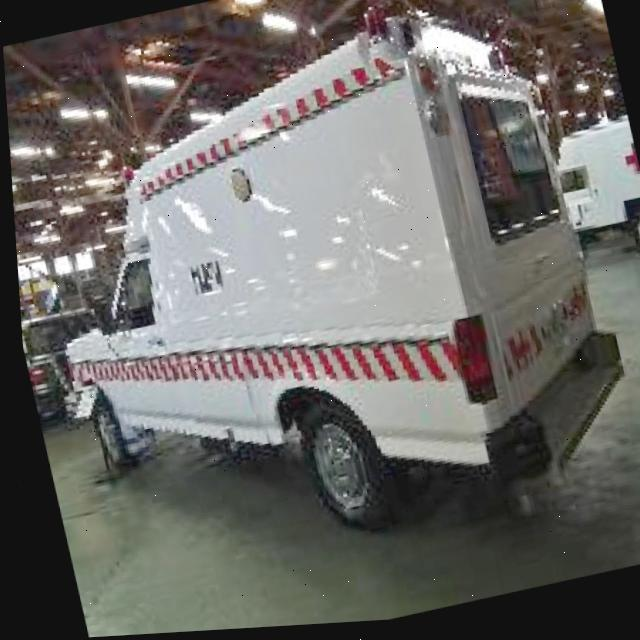emergency: (0, 0, 640, 593)
